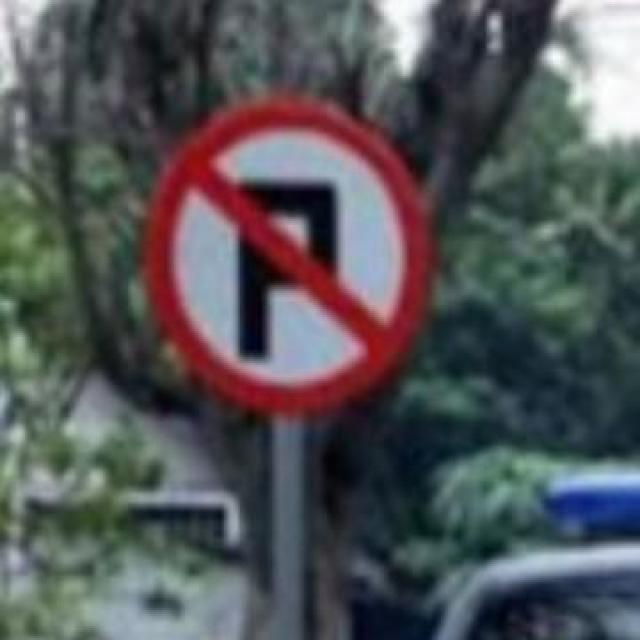traffic sign: (141, 97, 431, 414)
